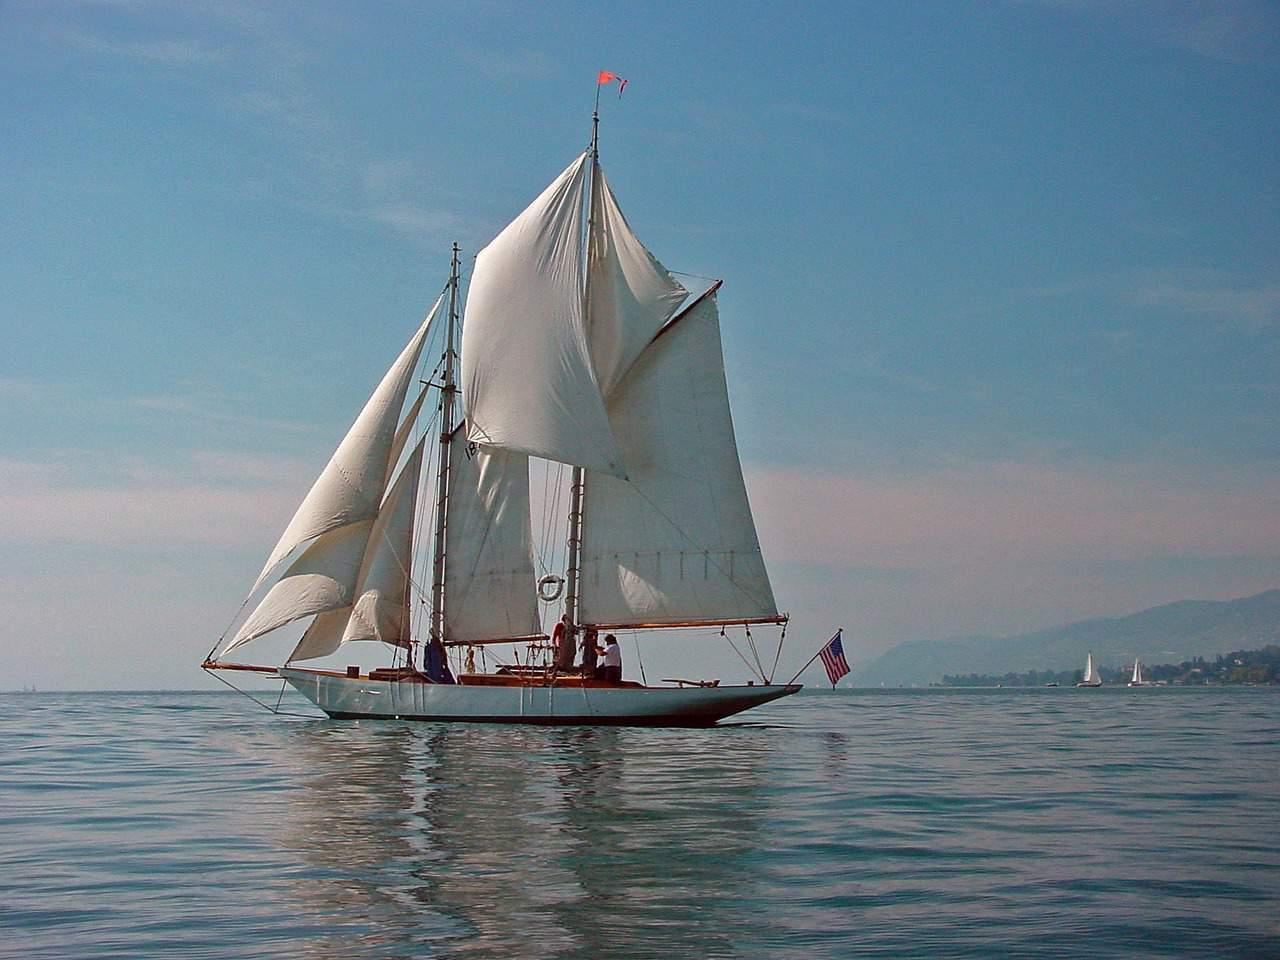Ship: (197, 68, 851, 730)
